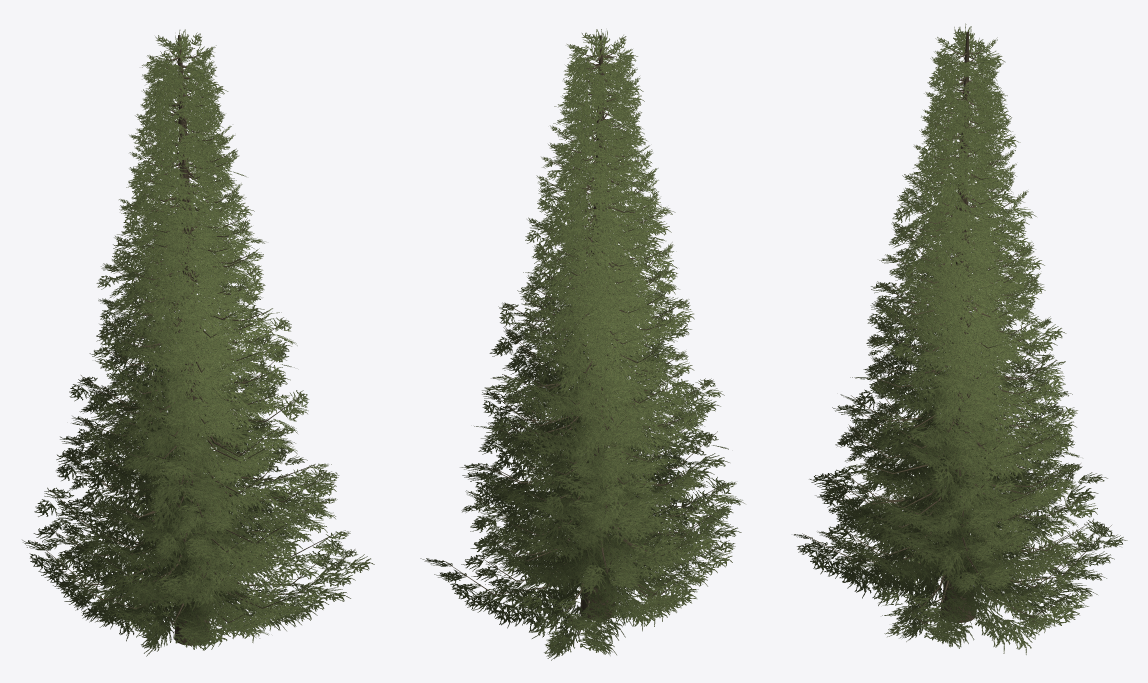
File: SM_Spruce_01.gltf
3 renders of one model, left to right at view 1: azimuth 30°, elevation 25°; view 2: azimuth 150°, elevation 25°; view 3: azimuth 270°, elevation 25°, orthographic. The views are drawn at different scales.
Parts seen in each view (by area): view 1: SM_Spruce_01; view 2: SM_Spruce_01; view 3: SM_Spruce_01.
Boxes of the visible parts, x1,y1,x2,y2 form: SM_Spruce_01: [22, 29, 374, 656]; SM_Spruce_01: [420, 29, 744, 660]; SM_Spruce_01: [794, 23, 1127, 654].
Bounding box in the file's own units: 7.99 × 15.83 × 8.26.
2 materials, 2 textured.
